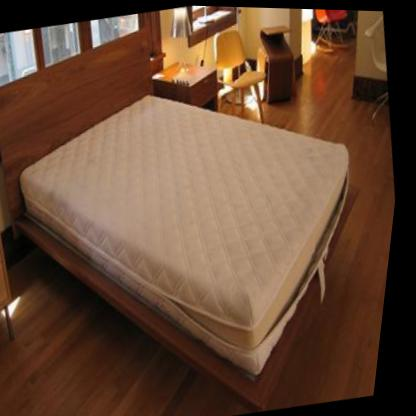Bed: (0, 0, 407, 416)
Chair: (205, 20, 280, 131)
Wooden floor: (279, 104, 399, 408), (0, 302, 261, 416)
